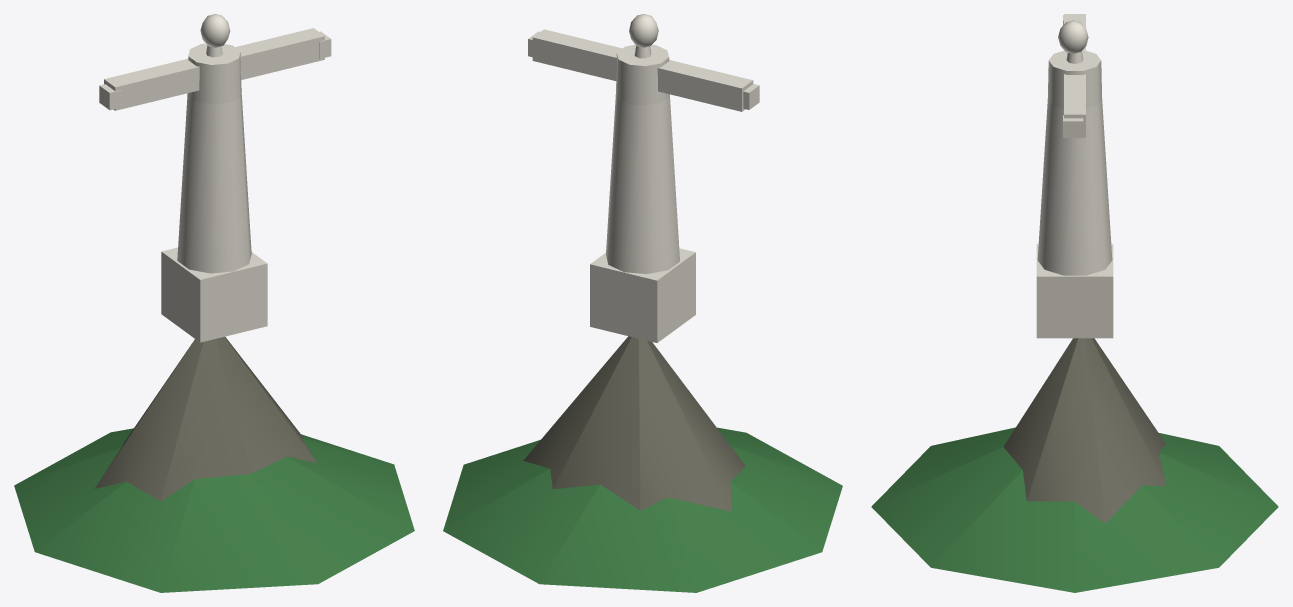
3 views of the same model, side by side, from view 1: azimuth 30°, elevation 25°; view 2: azimuth 150°, elevation 25°; view 3: azimuth 270°, elevation 25° (orthographic).
Bounding box in the file's own units: 48 × 63.07 × 48.
